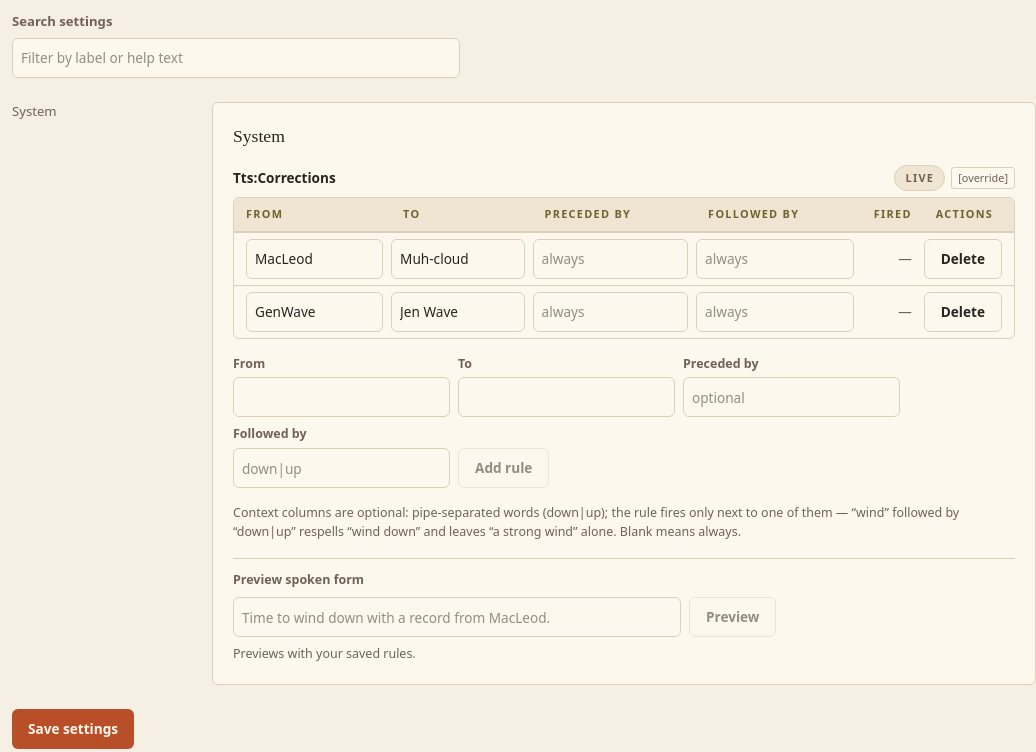
Scenario: Feature: Tts:Corrections staging is unmistakable › Scenario: the unsaved-changes badge tracks the staged rules › appears when an existing rule is edited
This screenshot has width=1036, height=752.
Replace the text in the field named "To text for rule 1" with "Mick-loud" at (458, 259), box [391,239,525,279]
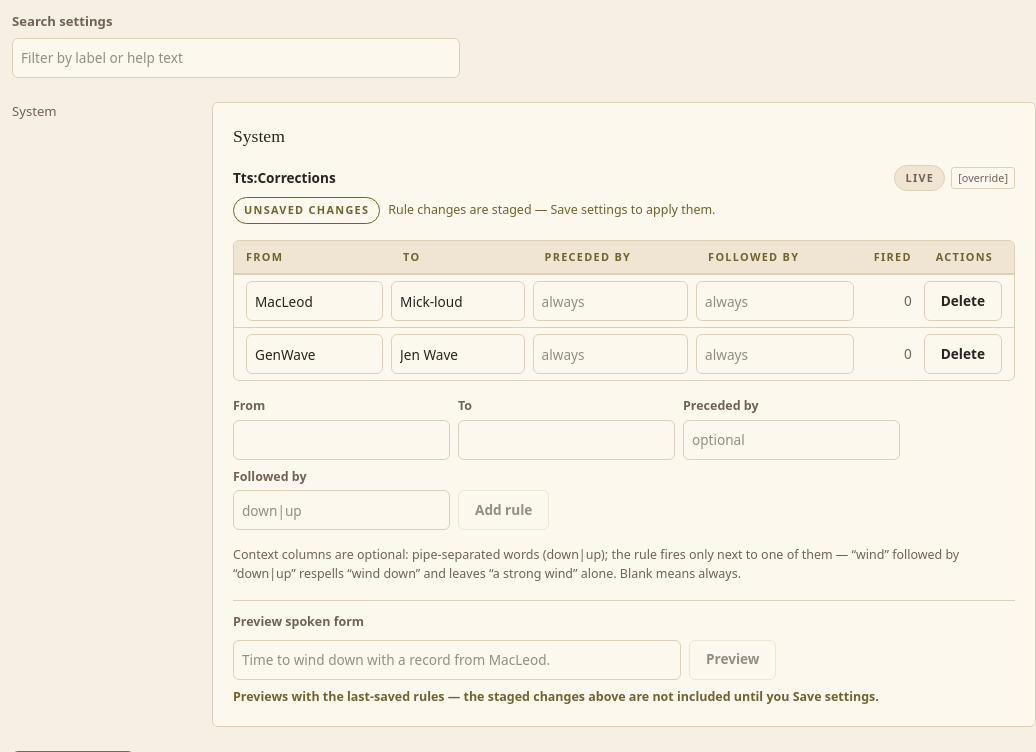
Result: the message with test id "corrections-dirty-notice" shows "Unsaved changes" at [244,202,369,217]
